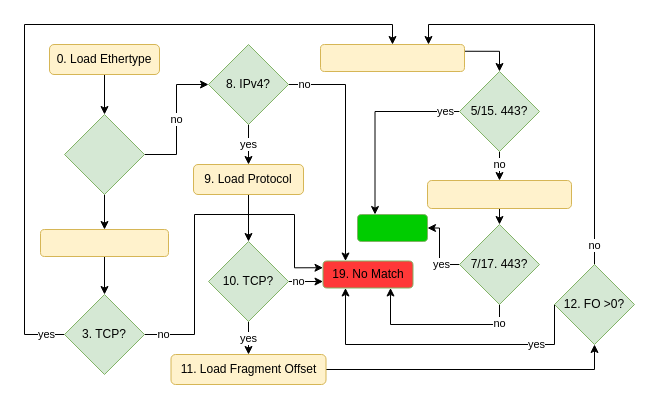
The diagram is 652 pixels wide and 402 high, and some of its shapes have lost their labels. Here are the shapes that lost their labels. From the top down, the centre of each, then its label:
At point (392, 58): "4/14. Load TCP srcport".
At point (104, 154): "1. IPv6?".
At point (499, 194): "6/16. Load TCP dstport".
At point (104, 242): "2. Load Next Header".
At point (392, 228): "18. Match".
